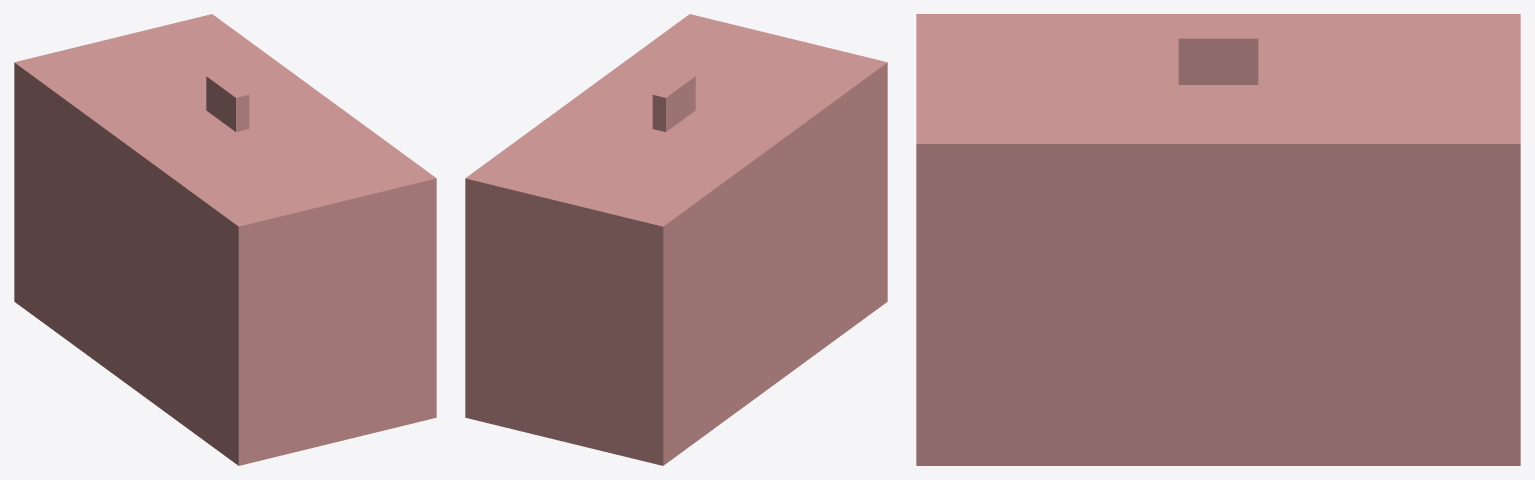
Rendered from ConcreteBarrier_C_A_COL.fbx.
3 renders of one model, left to right at view 1: azimuth 30°, elevation 25°; view 2: azimuth 150°, elevation 25°; view 3: azimuth 270°, elevation 25°, orthographic. The views are drawn at different scales.
Parts seen in each view (by area): view 1: ConcreteBarrier_C_A_COL; view 2: ConcreteBarrier_C_A_COL; view 3: ConcreteBarrier_C_A_COL.
Boxes of the visible parts, x1,y1,x2,y2 form: ConcreteBarrier_C_A_COL: (14,14,436,465); ConcreteBarrier_C_A_COL: (465,14,887,465); ConcreteBarrier_C_A_COL: (916,14,1520,465).
Bounding box in the file's own units: 71.77 × 94.72 × 141.
